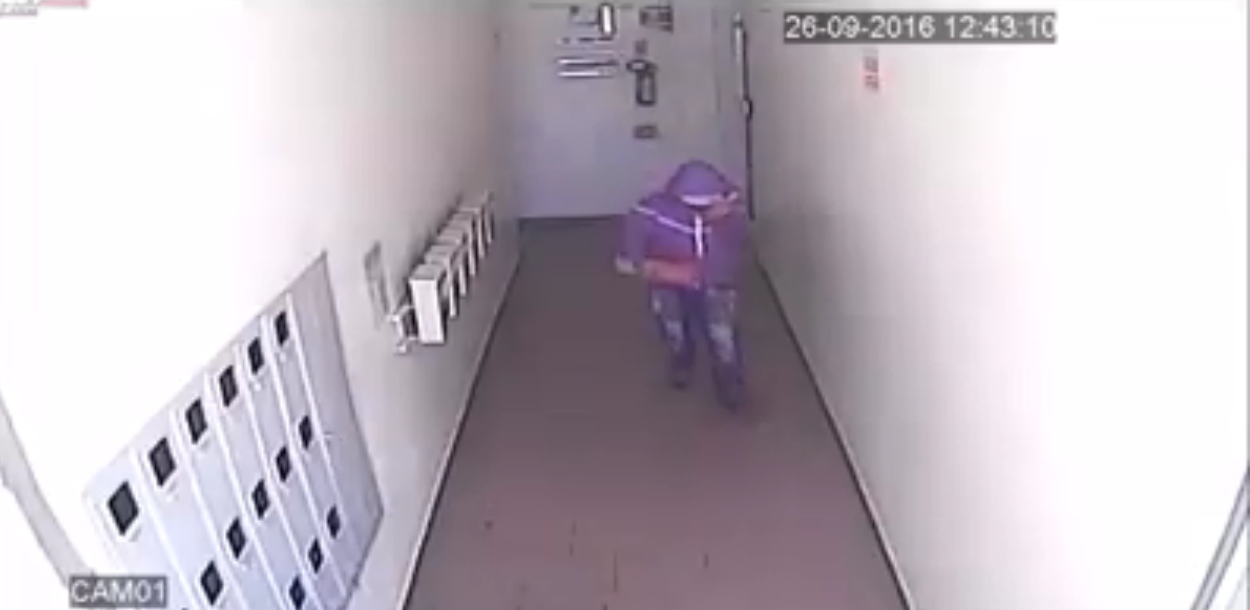Humano: (611, 152, 792, 426)
